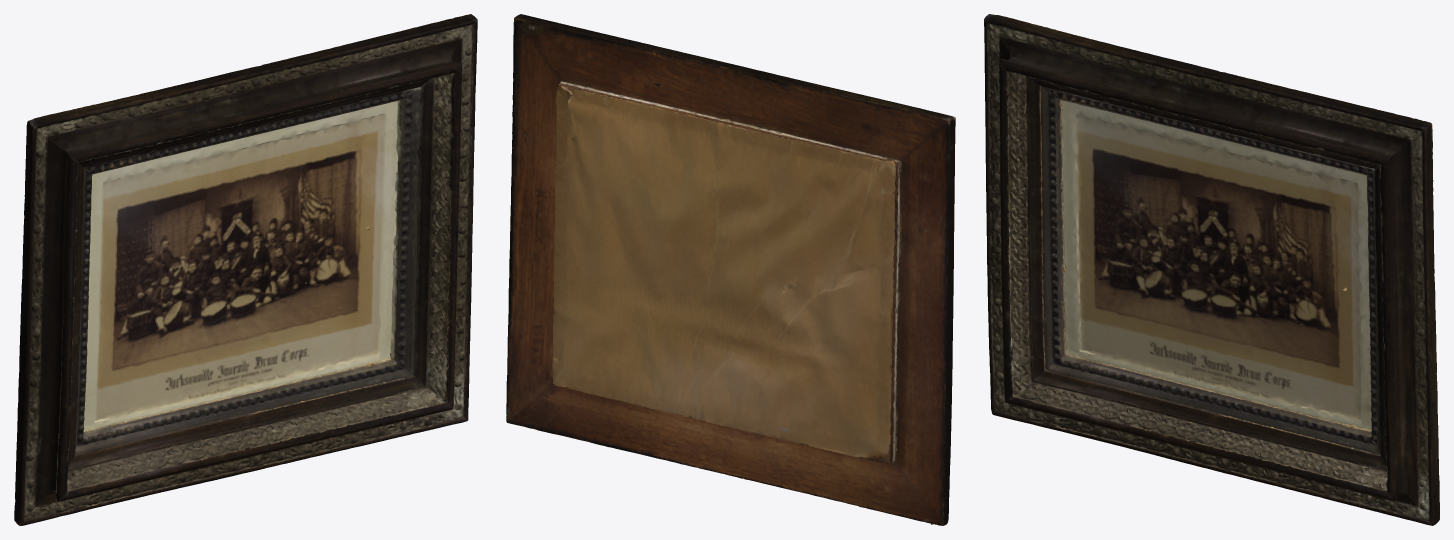
The model's file is photo-frame-5.fbx.
The picture shows the model from 3 angles, left to right: view 1: azimuth 30°, elevation 25°; view 2: azimuth 150°, elevation 25°; view 3: azimuth 330°, elevation 25°; orthographic projection. The views are drawn at different scales.
Parts seen in each view (by area): view 1: Object_2; view 2: Object_2; view 3: Object_2.
Boxes of the visible parts, x1,y1,x2,y2 form: Object_2: (14, 14, 477, 525); Object_2: (506, 14, 955, 525); Object_2: (984, 14, 1439, 525).
Bounding box in the file's own units: 61100 × 53520 × 7664.
1 material, 1 textured.
